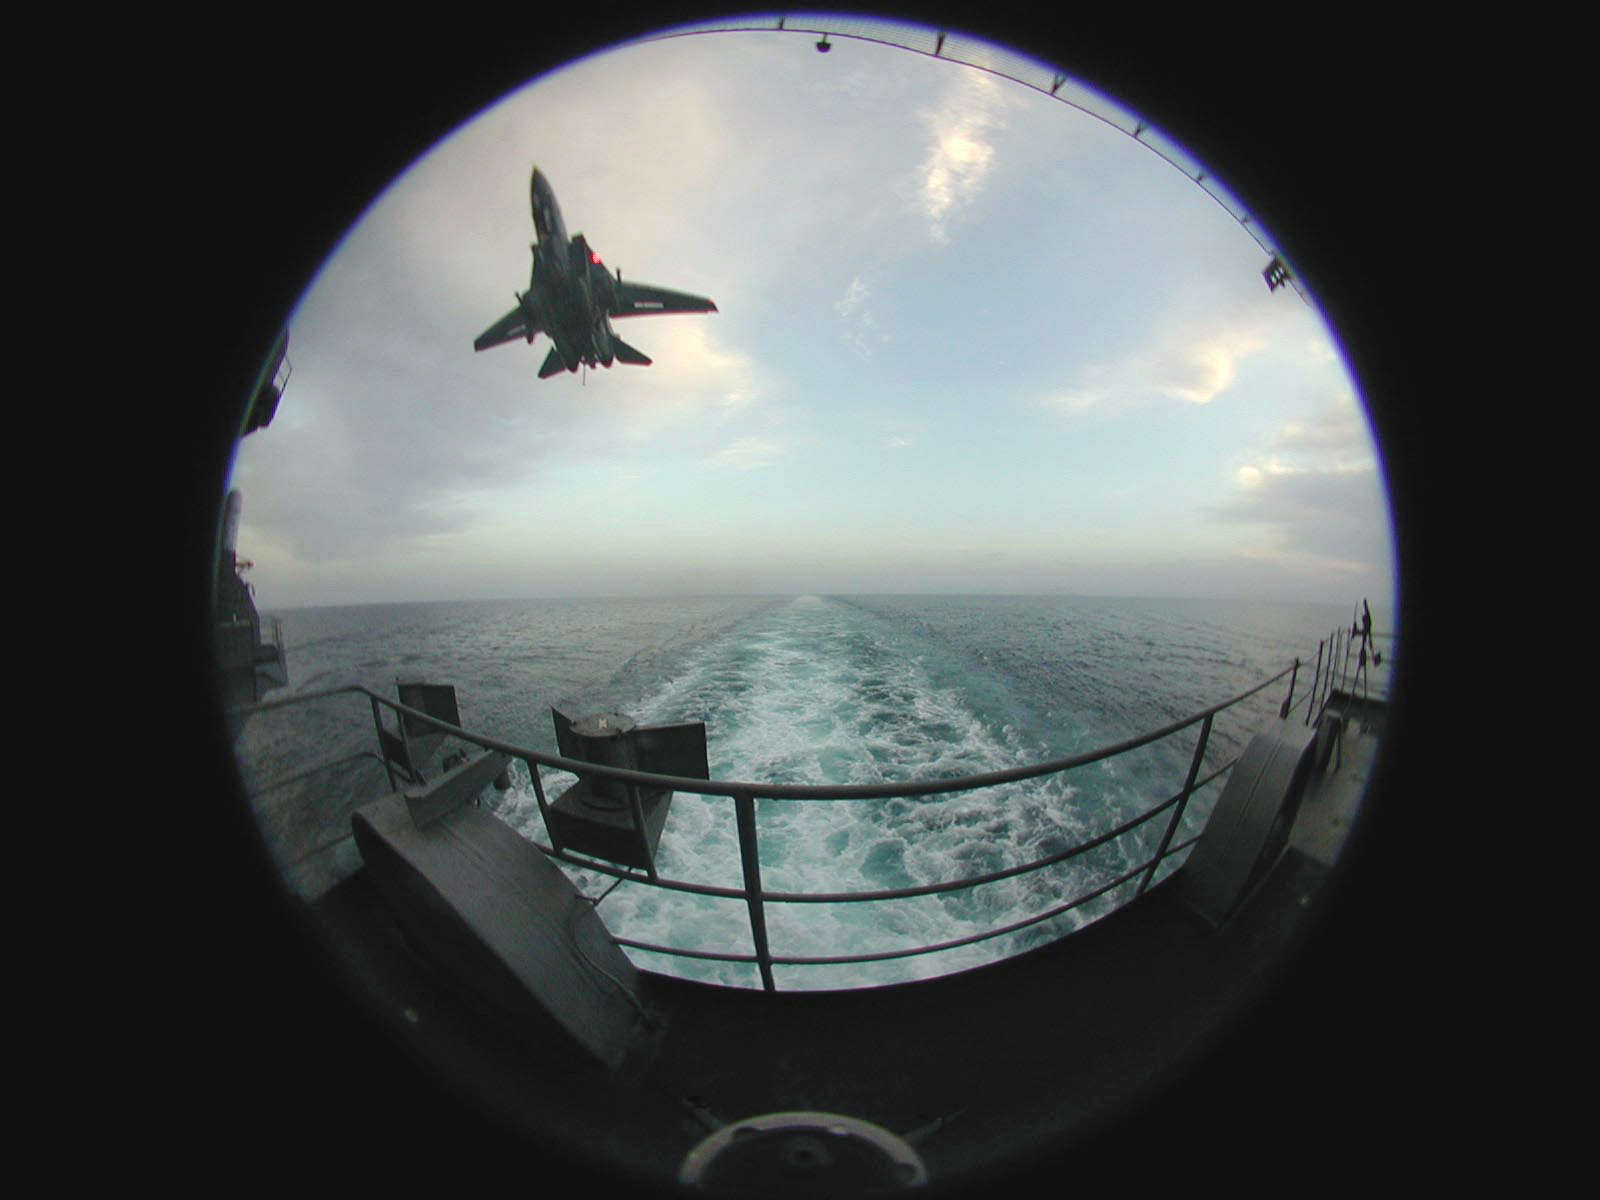airplane: (472, 165, 721, 387)
